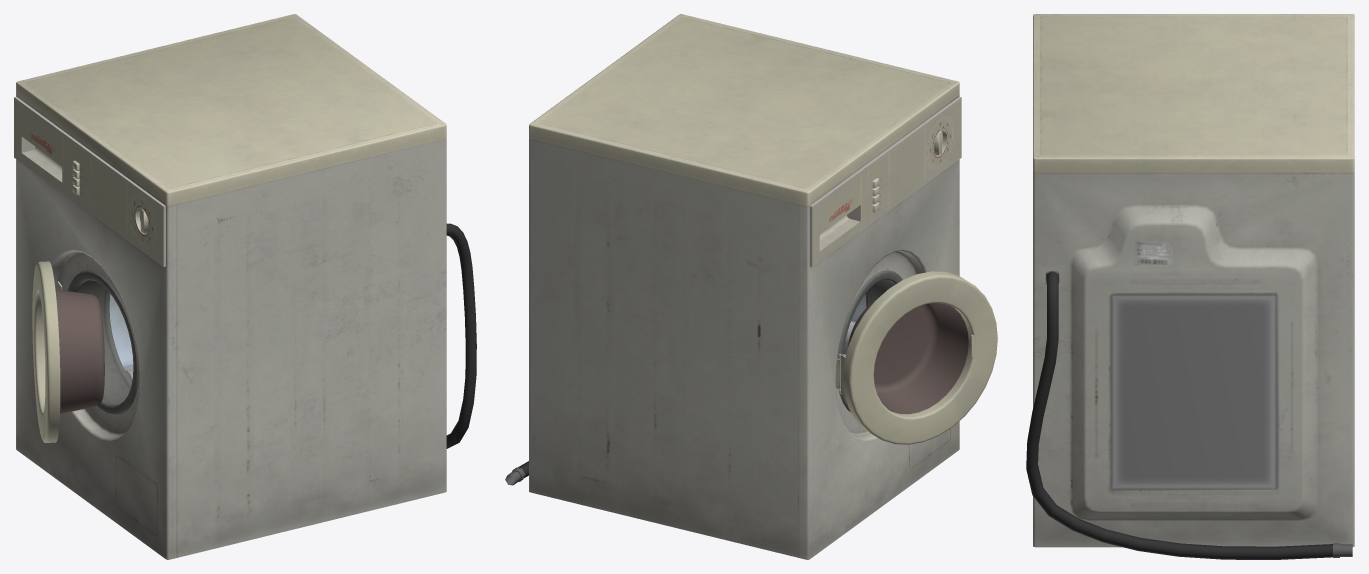
3 renders of one model, left to right at view 1: azimuth 30°, elevation 25°; view 2: azimuth 150°, elevation 25°; view 3: azimuth 270°, elevation 25°, orthographic. The views are drawn at different scales.
Parts seen in each view (by area): view 1: body_low, door_low, rubber_low, cable_low, drum_low; view 2: body_low, door_low, rubber_low; view 3: body_low, cable_low.
Boxes of the visible parts, box(x1,y1,x2,y2) form: body_low: box(14, 14, 446, 559); door_low: box(32, 261, 104, 442); rubber_low: box(67, 270, 139, 415); cable_low: box(446, 223, 476, 448); drum_low: box(109, 294, 133, 381); body_low: box(529, 14, 961, 559); door_low: box(843, 271, 997, 444); rubber_low: box(837, 270, 902, 411); body_low: box(1033, 14, 1354, 547); cable_low: box(1026, 271, 1352, 559).
Size of the model in its own units: 200 by 182 by 137.
